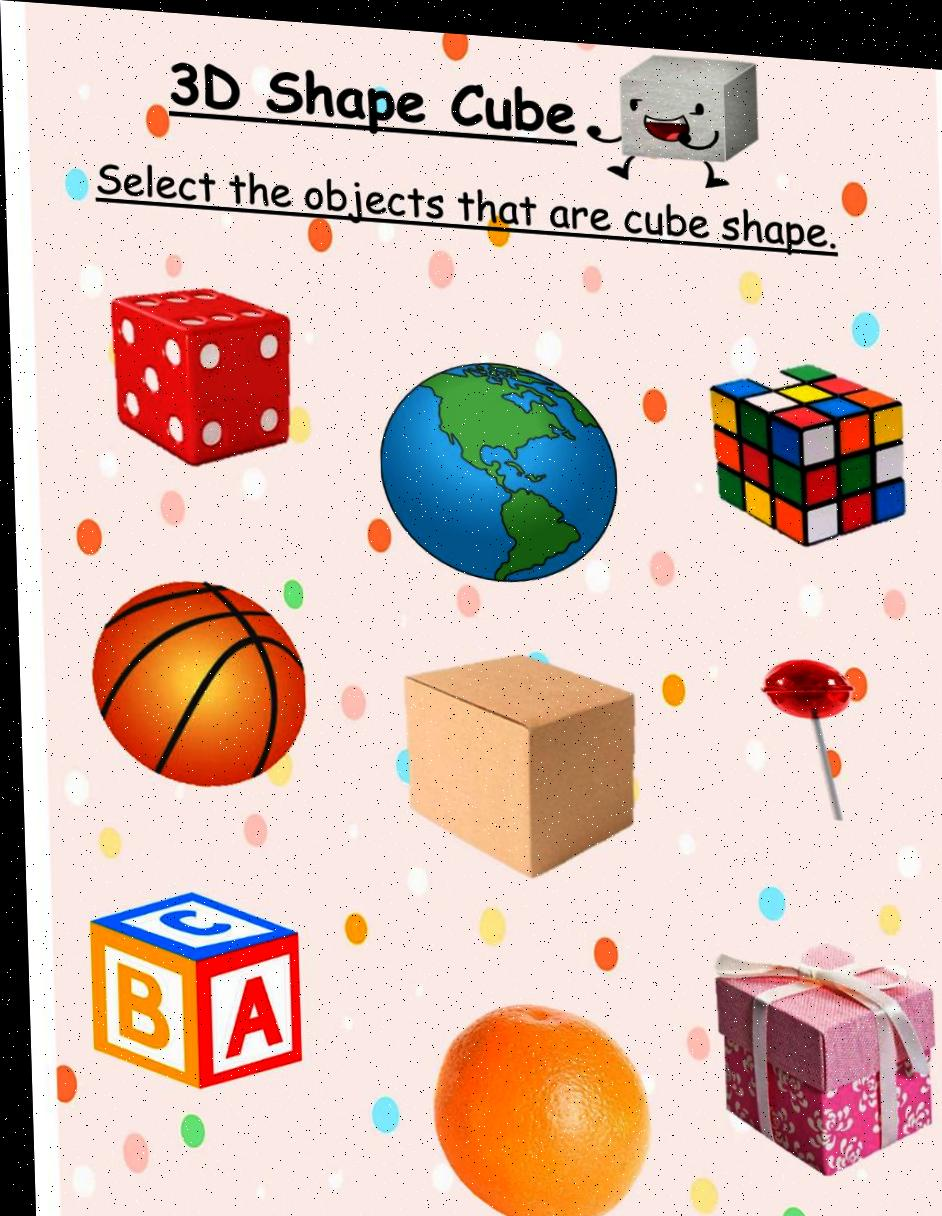cube: (391, 636, 650, 890), (74, 878, 318, 1111), (690, 339, 929, 562), (88, 254, 315, 485)
